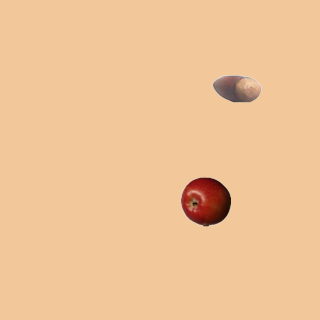Apple Braeburn: (180, 176, 230, 226)
Hazelnut: (211, 63, 261, 113)
